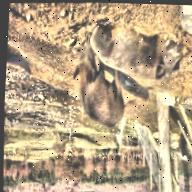boar: (94, 19, 192, 94), (67, 49, 140, 148)
